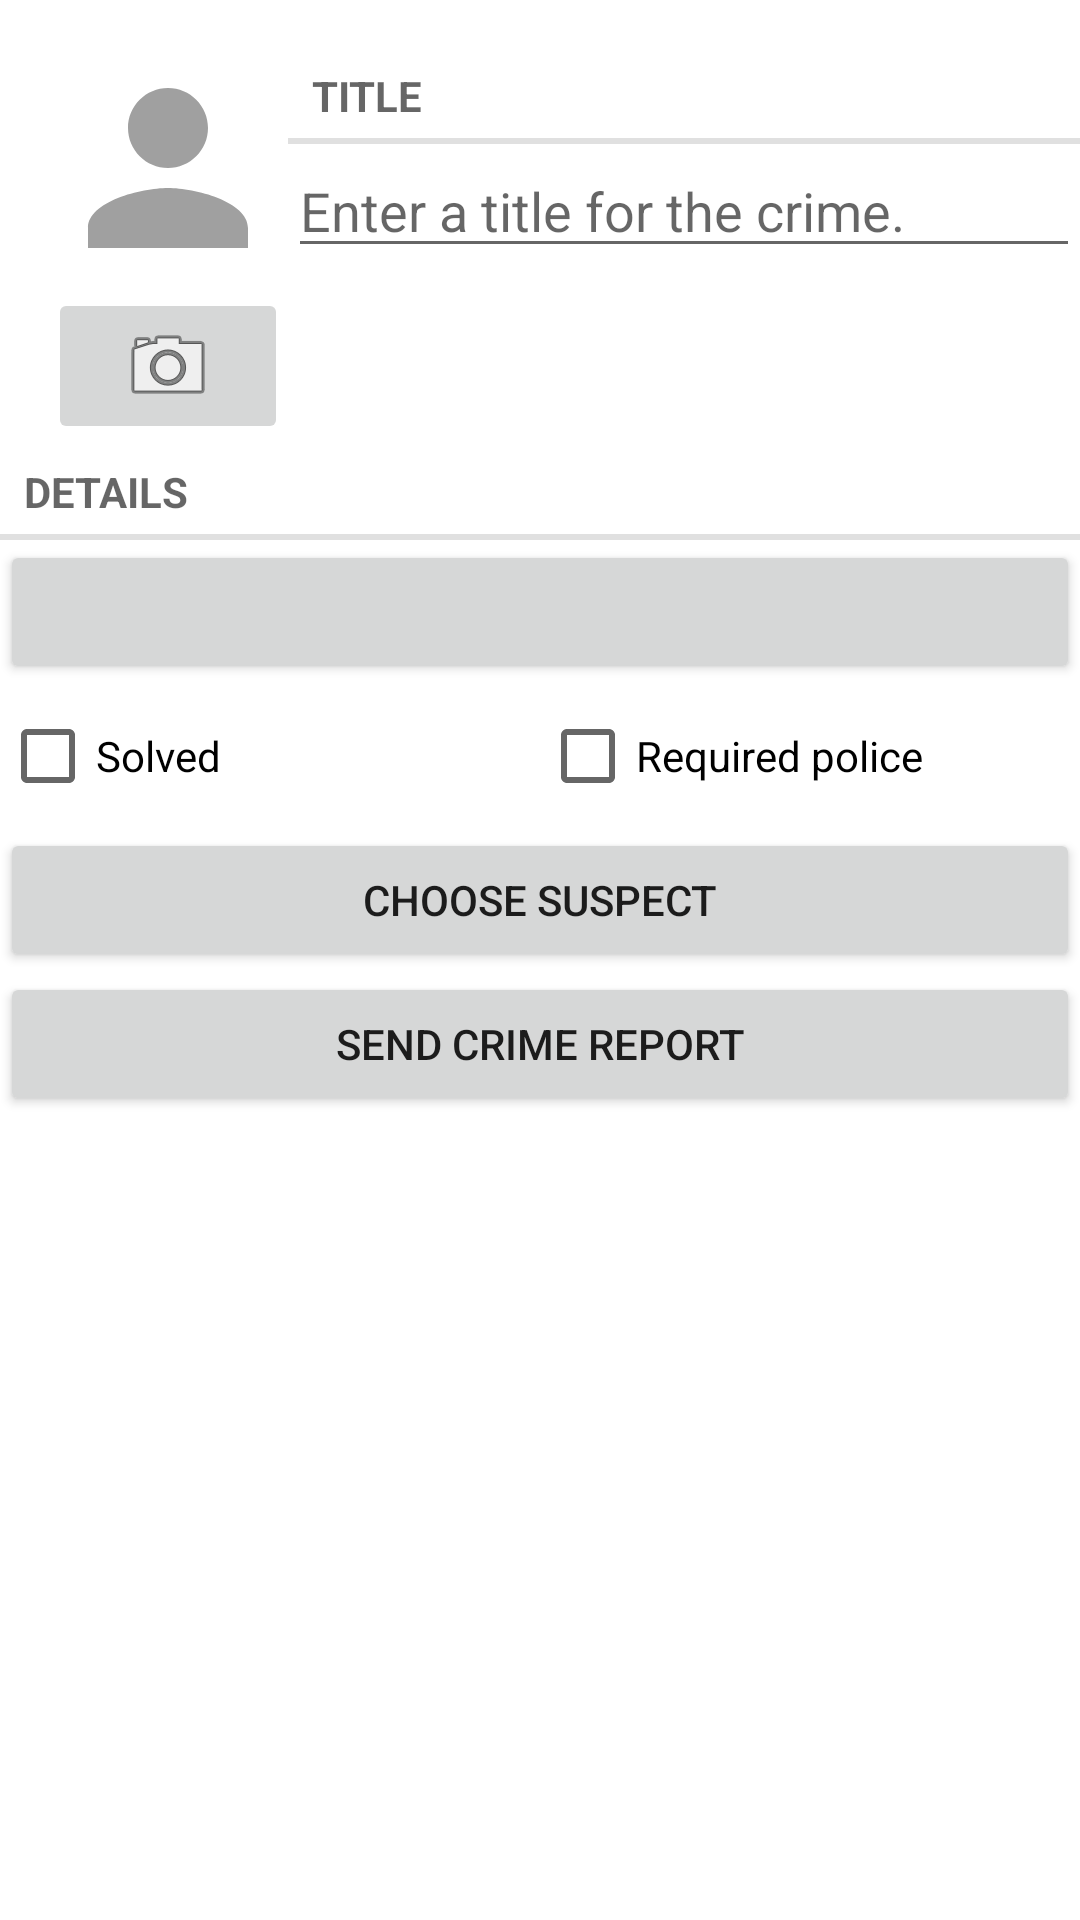

Icon bounding boxes for this 1080*1920 phone screenshot, format (x1, y1, x2, y2):
Take photo of crime scene: (60, 306, 276, 426)
